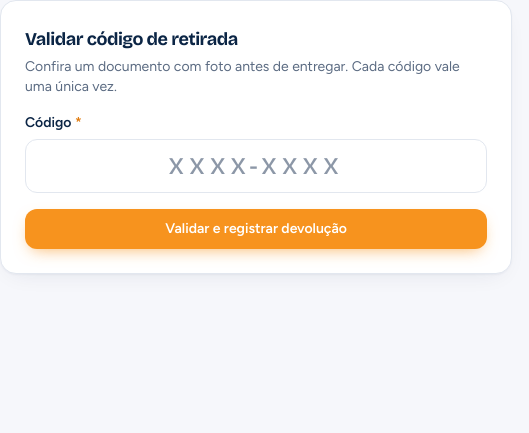
Test: withdrawal submission › does not report a completed withdrawal as failed if refreshing fails
In the field: (256, 166) x1=25 y1=139 x2=487 y2=193, type "K7QM-4XPA"
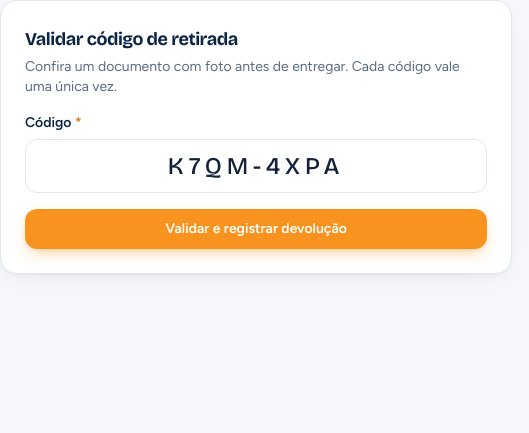
Click the button: (256, 229) x1=25 y1=209 x2=487 y2=249
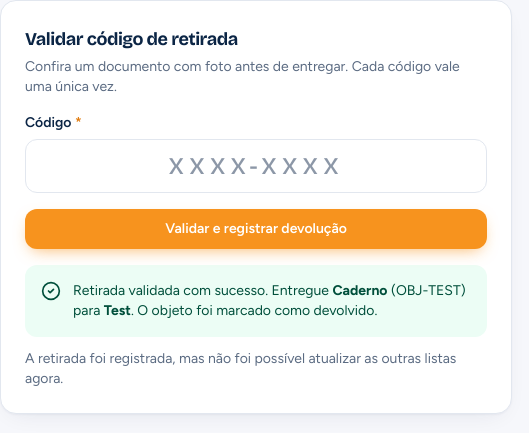
Result: the field is empty at x1=25 y1=139 x2=487 y2=193
